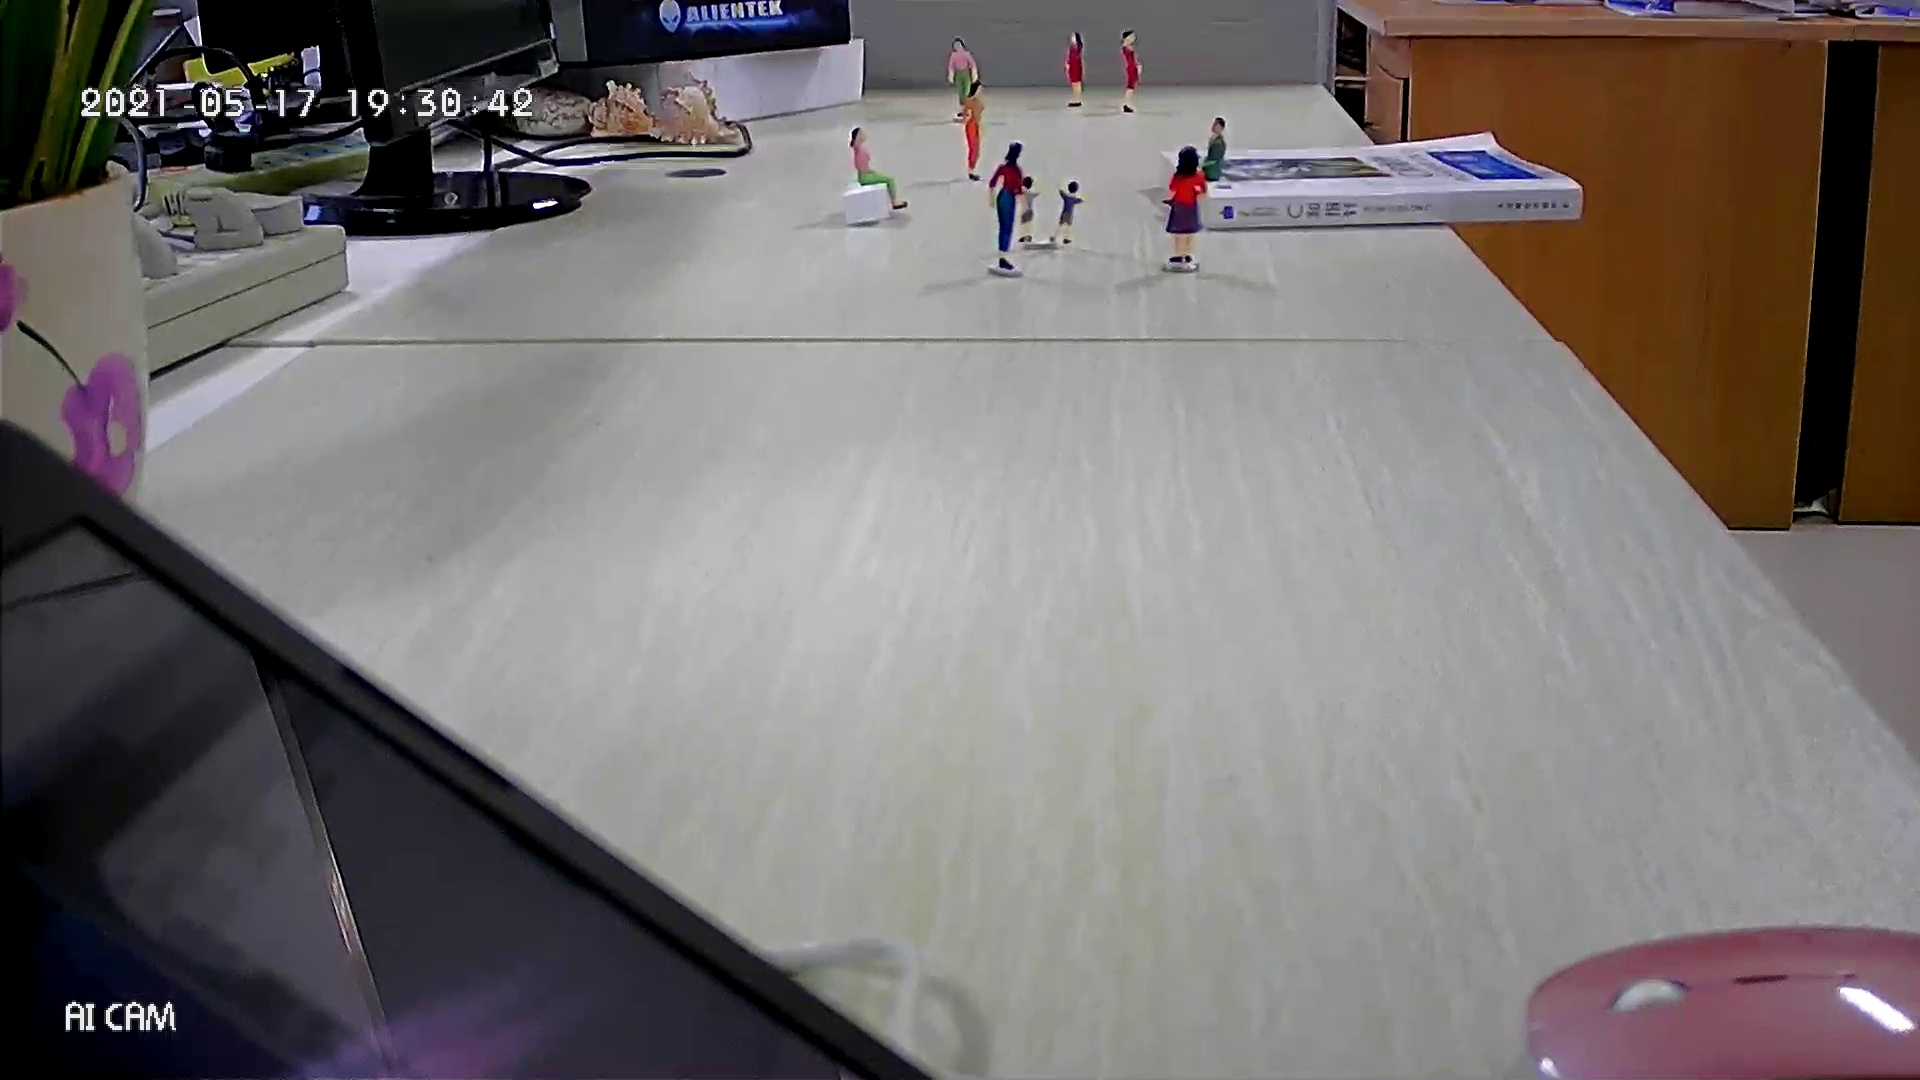person: (1161, 116, 1228, 210), (1164, 146, 1210, 266), (848, 125, 911, 211), (985, 139, 1025, 272), (1048, 179, 1094, 246), (946, 36, 979, 118), (962, 79, 985, 183), (1118, 28, 1144, 115), (1016, 173, 1045, 246), (1064, 30, 1087, 110)
